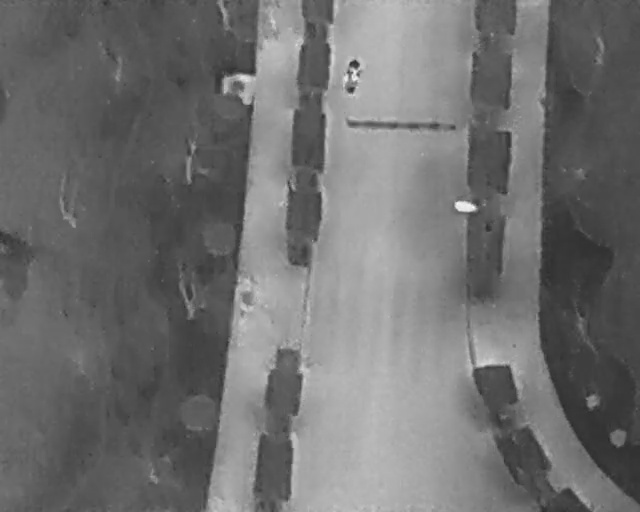Bicycle: (339, 58, 364, 98)
